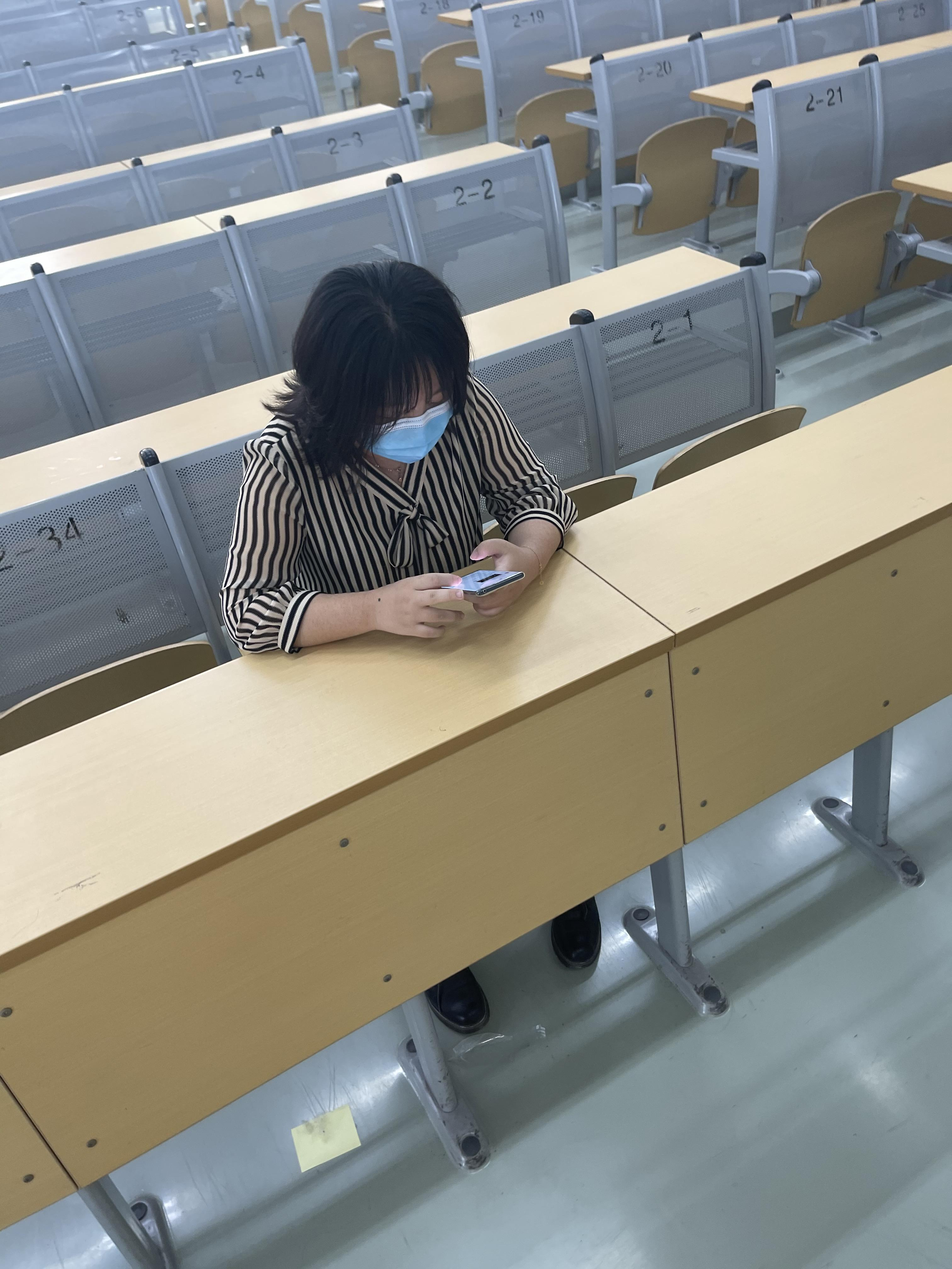phone: (219, 267, 576, 647)
